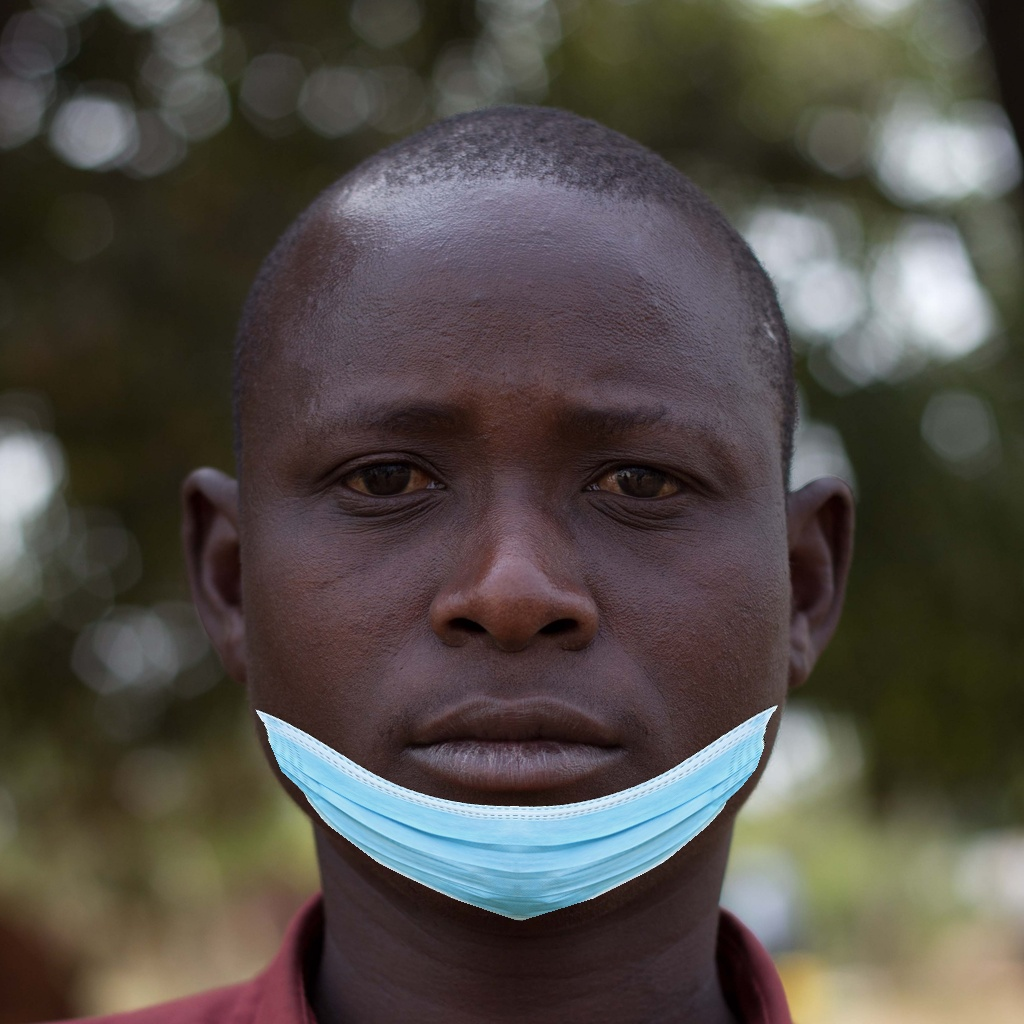mascarilla_mal_puesta: (222, 393, 799, 940)
